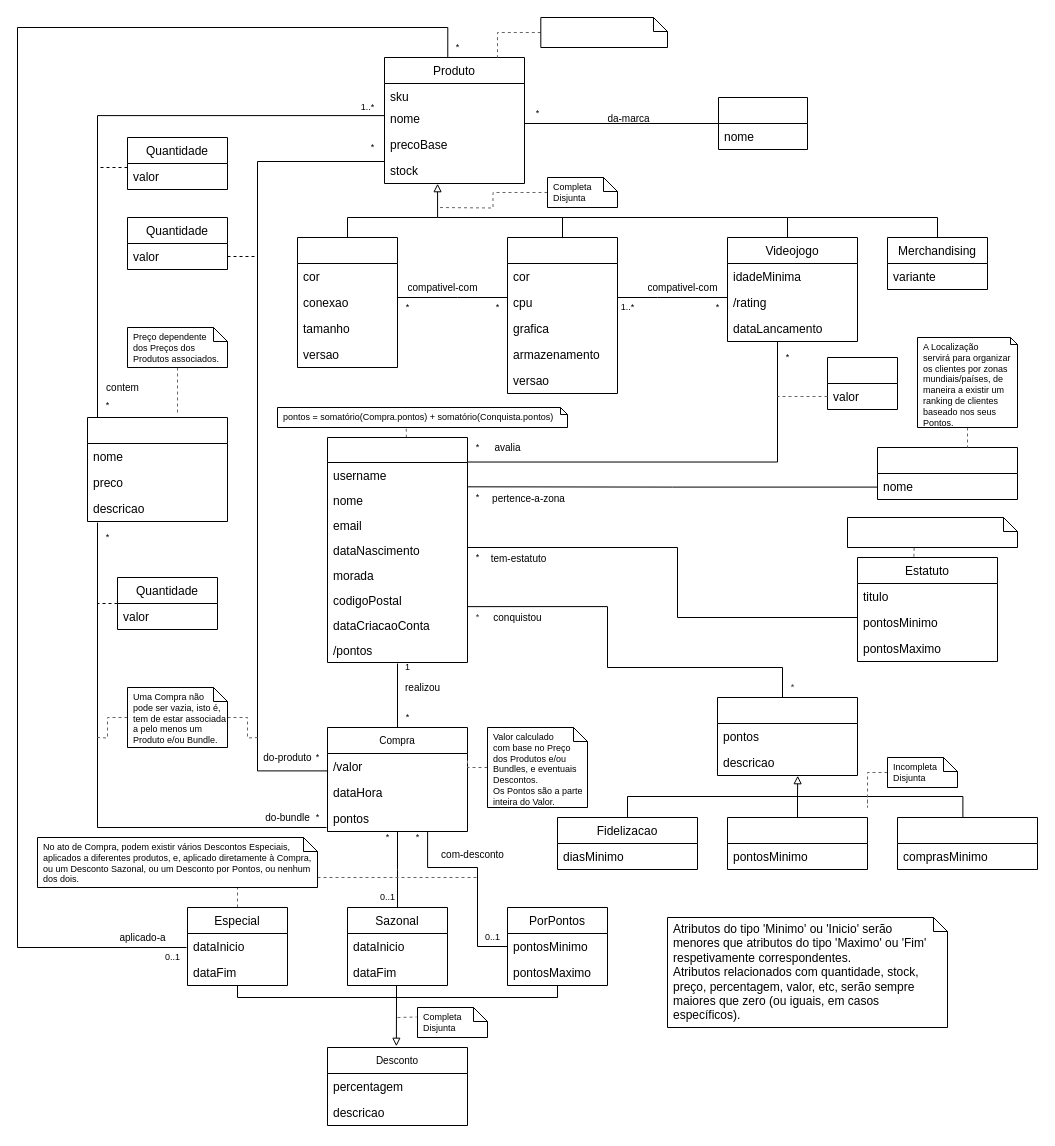
This 1055x1146 diagram has some shape labels left out. The shapes that lost their labels are listed below. From the top down, each one's box as (x1, y1, x2, y2) in pixels, then its label:
(540, 16, 668, 48): Preço Final dependente dos descontos aplicados.
(718, 96, 808, 150): Marca
(296, 236, 398, 368): Acessorio
(506, 236, 618, 394): Consola
(826, 356, 898, 410): Avaliacao
(86, 416, 228, 522): Bundle
(876, 446, 1018, 500): Localizacao
(326, 436, 468, 662): Cliente
(846, 516, 1018, 548): Estatuto definido em função dos Pontos do Cliente.
(716, 696, 858, 776): Conquista
(726, 816, 868, 870): NivelPontos
(896, 816, 1038, 870): NumeroCompras
